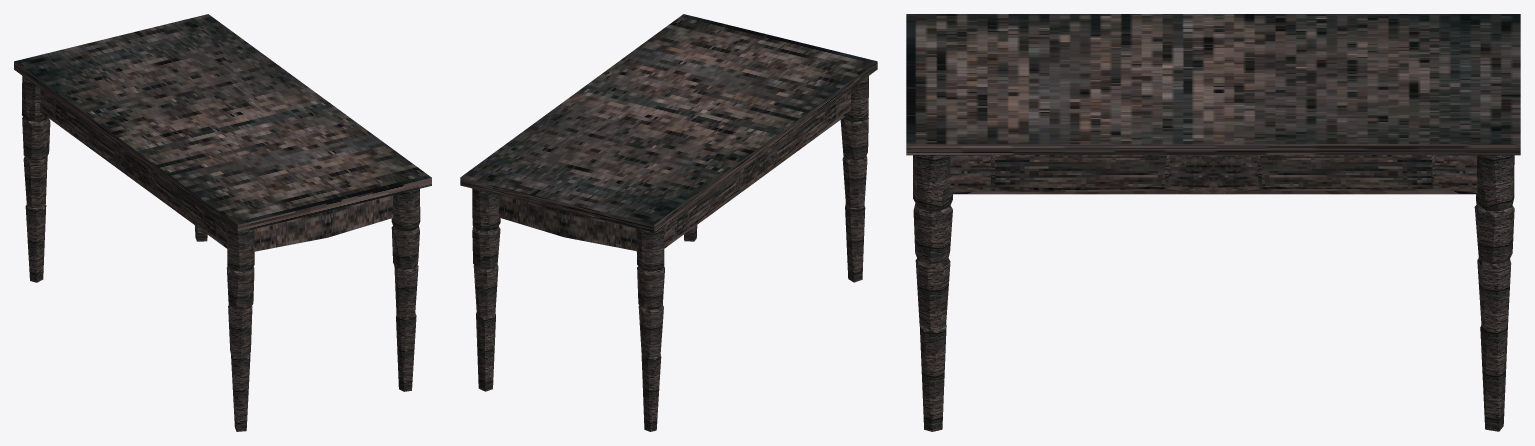
The model's file is kitchen_table.fbx.
3 views of the same model, side by side, from view 1: azimuth 30°, elevation 25°; view 2: azimuth 150°, elevation 25°; view 3: azimuth 270°, elevation 25° (orthographic). The views are drawn at different scales.
Parts seen in each view (by area): view 1: Cube, Cylinder, Cube_001; view 2: Cube, Cylinder, Cube_001; view 3: Cube, Cube_001, Cylinder.
Boxes of the visible parts, x1,y1,x2,y2 form: Cube: (14, 14, 431, 232); Cylinder: (21, 76, 420, 431); Cube_001: (40, 89, 392, 251); Cube: (460, 14, 877, 232); Cylinder: (472, 76, 868, 431); Cube_001: (499, 89, 850, 250); Cube: (906, 14, 1520, 155); Cube_001: (950, 155, 1477, 194); Cylinder: (913, 155, 1514, 431).
Bounding box in the file's own units: 2 × 2.11 × 3.99.
